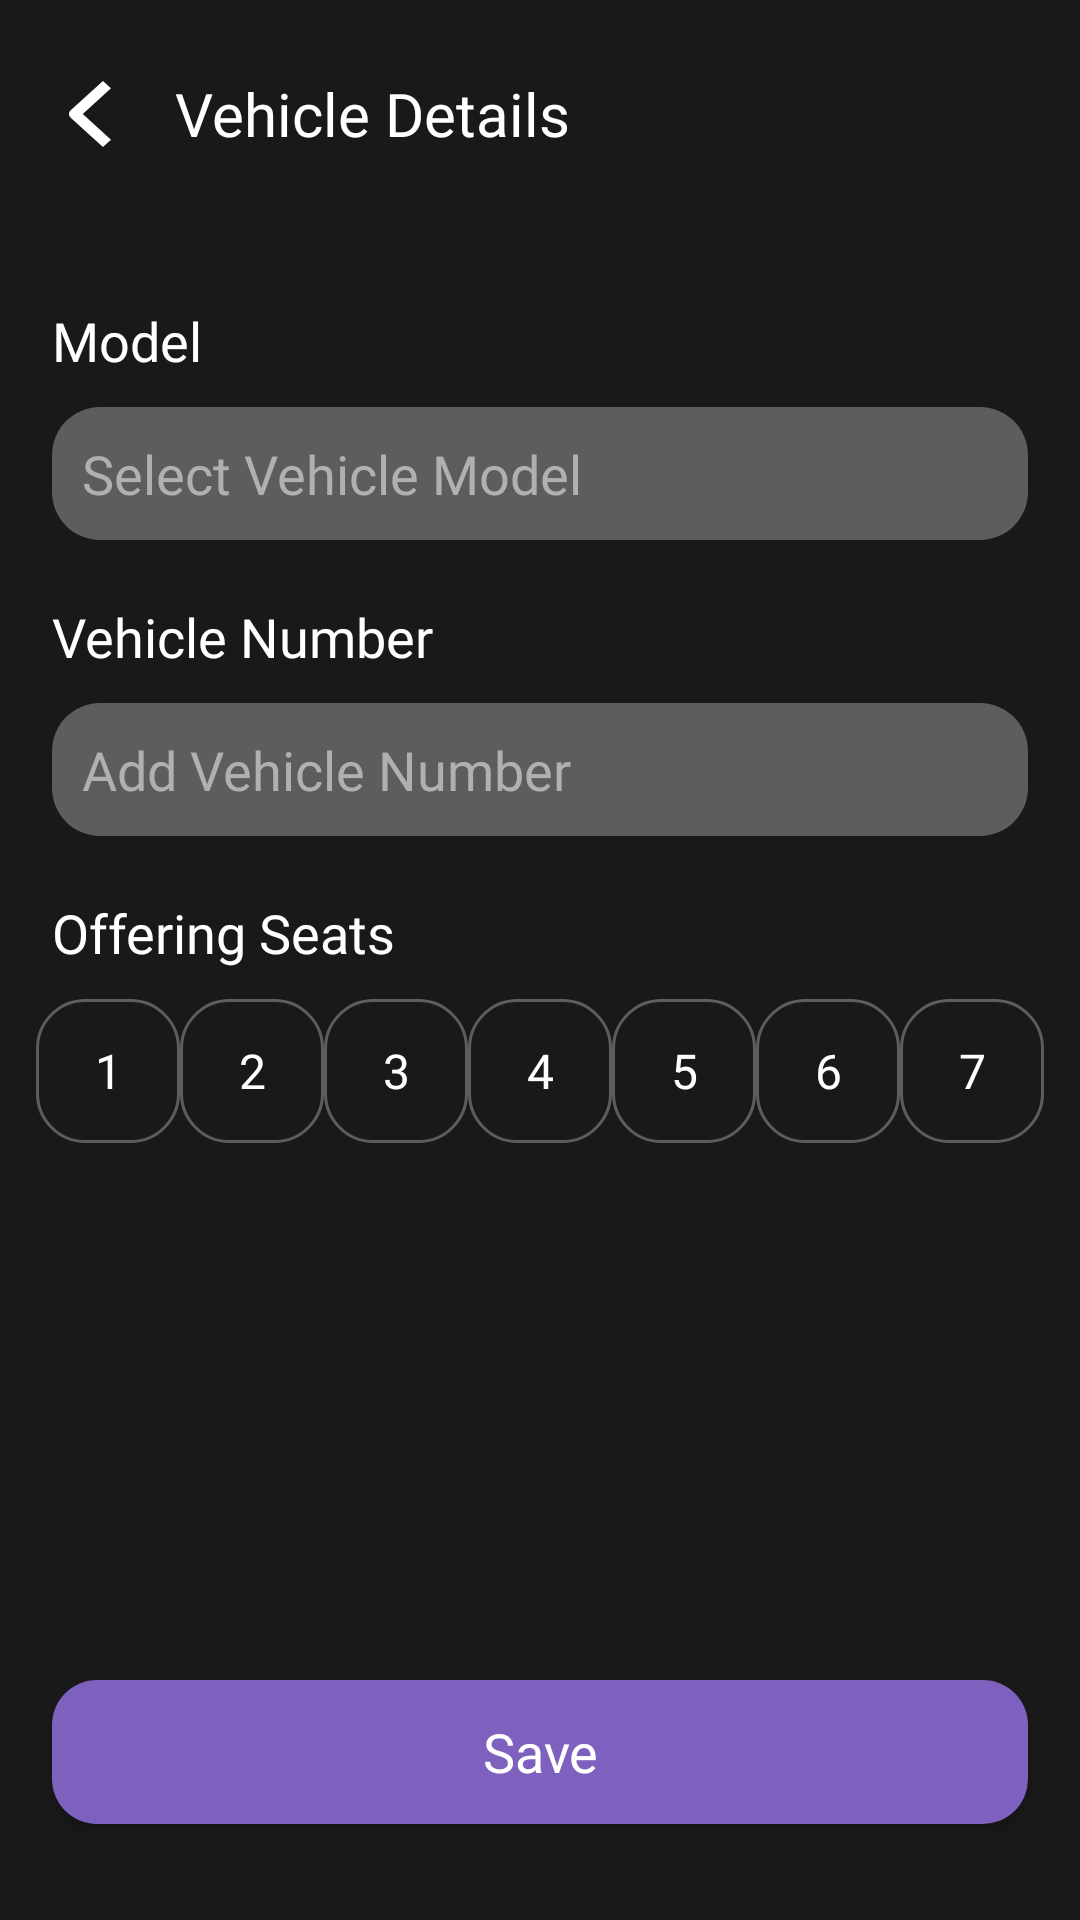

Named icons in this screenshot (1080*1920) and their centers, (x,y):
Back button: (90,114)
